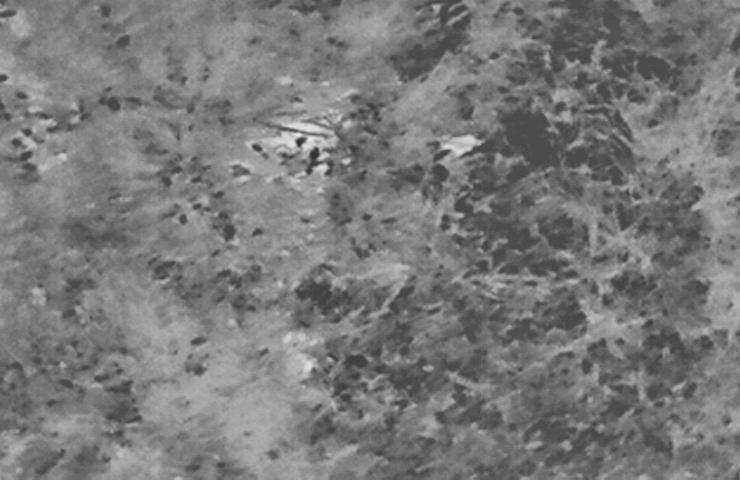landmines: (250, 88, 366, 192)
